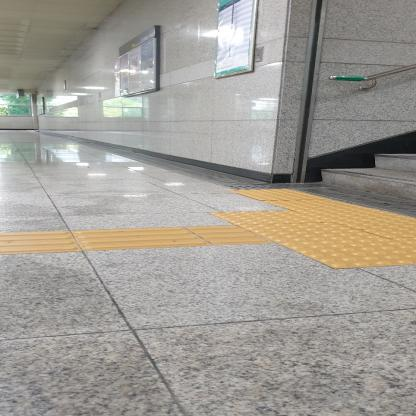go: (70, 227, 211, 252)
stop: (278, 238, 416, 270), (235, 222, 390, 243), (207, 210, 332, 226), (292, 208, 414, 222), (335, 217, 416, 238), (261, 199, 370, 210)
